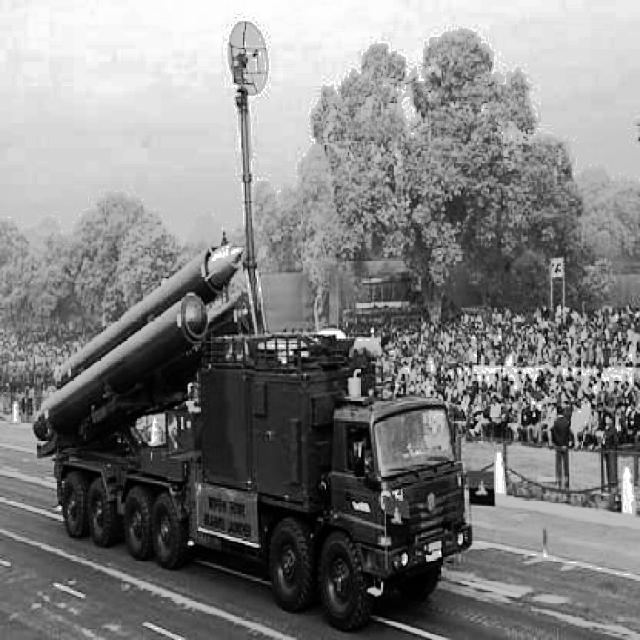HCV: (62, 292, 464, 640)
